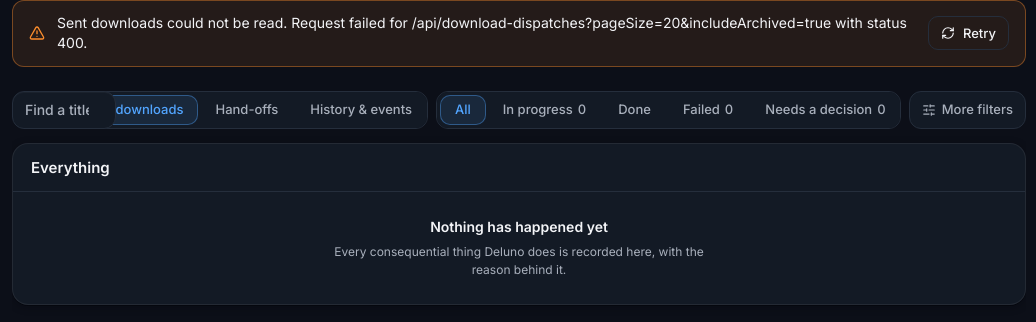
Activity's route sources (#1329) › an optional source that cannot be read falls back to empty, says so in place with a Retry, and the page still draws
Expected: the radio button labelled "All" is shown, [440,95,486,125]
Expected: the message shows "Sent downloads could not be read.", [57,14,287,31]
Click the button "Retry".
click(968, 33)  # box [928,16,1009,50]
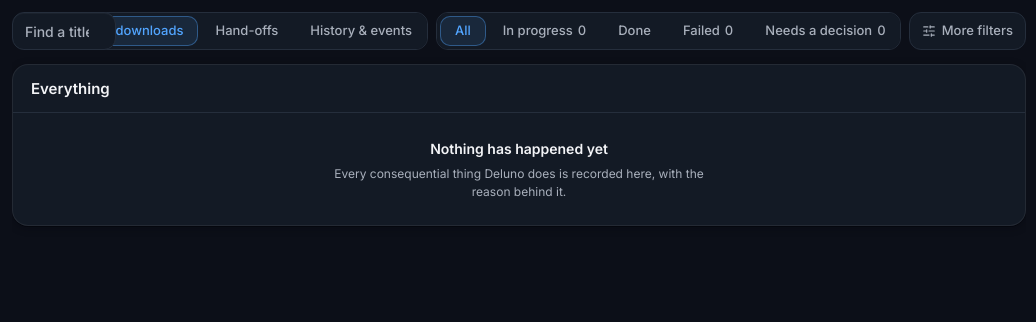
Expected: the message is gone
